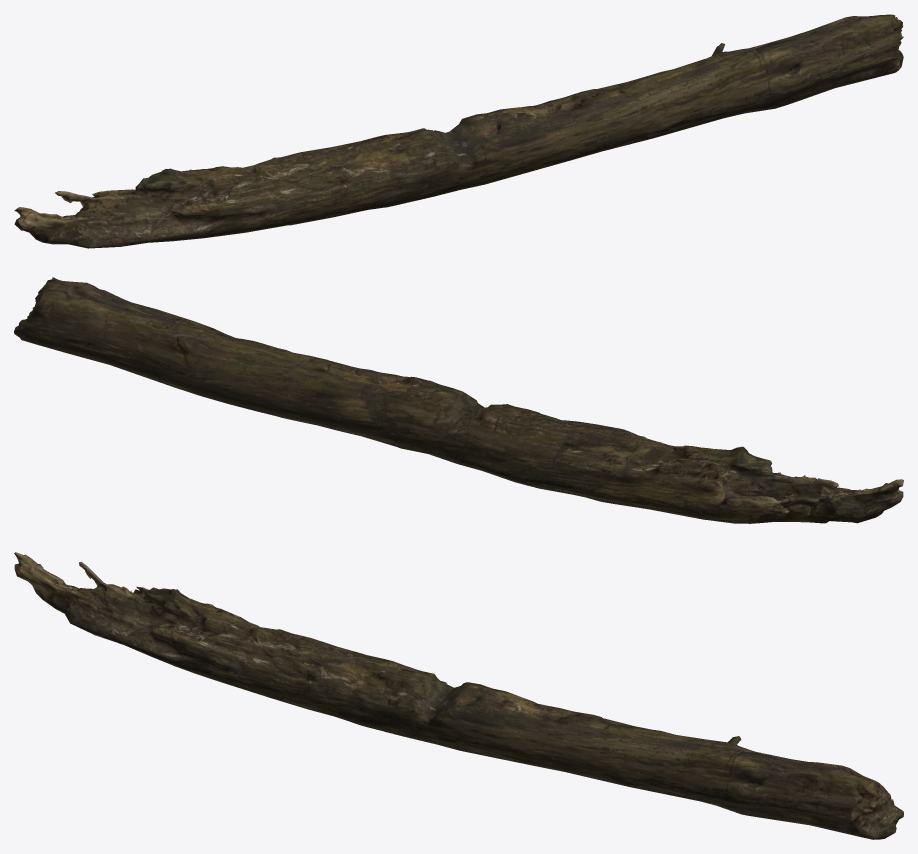
File: dead_tree_trunk.glb
3 renders of one model, top to bottom at view 1: azimuth 30°, elevation 25°; view 2: azimuth 150°, elevation 25°; view 3: azimuth 330°, elevation 25°, orthographic.
Visible parts, largest first — view 1: dead_tree_trunk; view 2: dead_tree_trunk; view 3: dead_tree_trunk.
Boxes of the visible parts, x1,y1,x2,y2 form: dead_tree_trunk: (14,14,903,248); dead_tree_trunk: (14,277,903,523); dead_tree_trunk: (14,552,903,839).
Bounding box in the file's own units: 3.05 × 0.2904 × 0.2773.
Materials: 1 (1 with a texture image).
